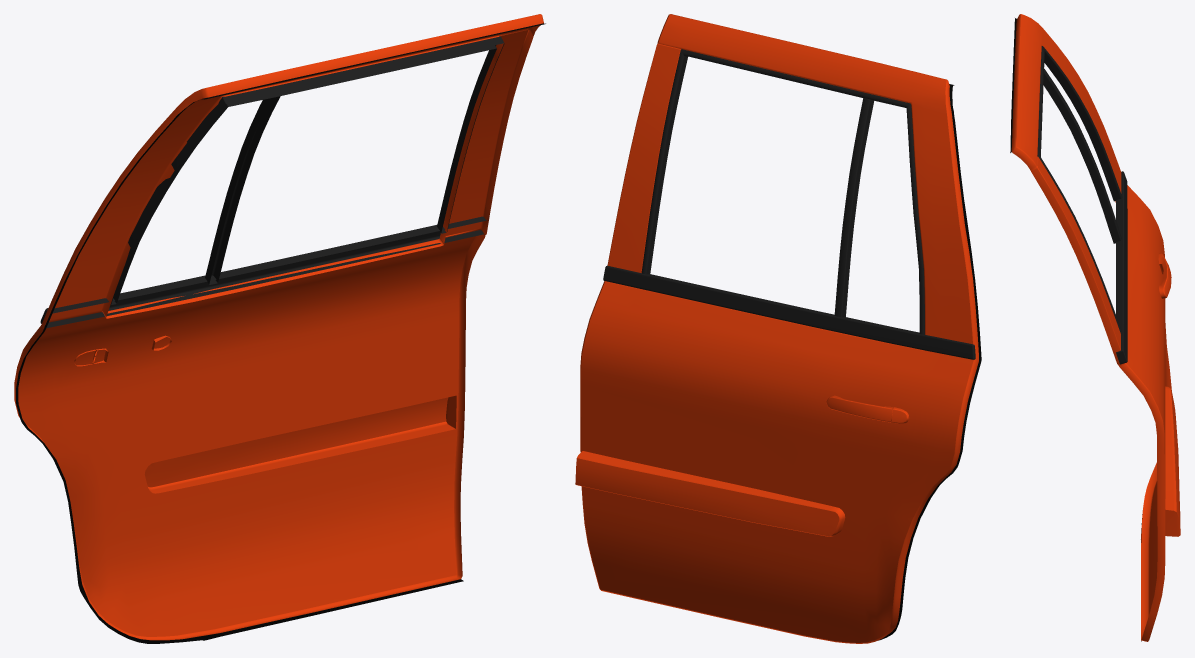
3 renders of one model, left to right at view 1: azimuth 30°, elevation 25°; view 2: azimuth 150°, elevation 25°; view 3: azimuth 270°, elevation 25°, orthographic. The views are drawn at different scales.
Visible parts, largest first — view 1: U843_9A_301B_L_U843_9A_301B_L_1_DaS, U843_9A_301B_L_U843_9A_301B_L_1_DaS_E, U843_9A_301B_L_3_D_U843_9A_301B_L, U843_9A_301B_L_U843_9A_301B_L_4_D; view 2: U843_9A_301B_L_U843_9A_301B_L_1_DaS, U843_9A_301B_L_3_D_U843_9A_301B_L, U843_9A_301B_L_U843_9A_301B_L_1_DaS_E, U843_9A_301B_L_U843_9A_301B_L_4_D; view 3: U843_9A_301B_L_U843_9A_301B_L_1_DaS, U843_9A_301B_L_U843_9A_301B_L_1_DaS_E, U843_9A_301B_L_3_D_U843_9A_301B_L, U843_9A_301B_L_U843_9A_301B_L_4_D.
Boxes of the visible parts, <box> form: U843_9A_301B_L_U843_9A_301B_L_1_DaS: <box>18,28,528,636</box>; U843_9A_301B_L_U843_9A_301B_L_1_DaS_E: <box>14,14,543,640</box>; U843_9A_301B_L_3_D_U843_9A_301B_L: <box>40,36,504,328</box>; U843_9A_301B_L_U843_9A_301B_L_4_D: <box>16,23,545,643</box>; U843_9A_301B_L_U843_9A_301B_L_1_DaS: <box>576,14,973,642</box>; U843_9A_301B_L_3_D_U843_9A_301B_L: <box>603,49,975,359</box>; U843_9A_301B_L_U843_9A_301B_L_1_DaS_E: <box>575,14,978,643</box>; U843_9A_301B_L_U843_9A_301B_L_4_D: <box>878,84,981,640</box>; U843_9A_301B_L_U843_9A_301B_L_1_DaS: <box>1016,14,1176,613</box>; U843_9A_301B_L_U843_9A_301B_L_1_DaS_E: <box>1011,14,1180,641</box>; U843_9A_301B_L_3_D_U843_9A_301B_L: <box>1037,46,1127,364</box>; U843_9A_301B_L_U843_9A_301B_L_4_D: <box>1010,18,1142,641</box>.
Bounding box in the file's own units: 89.21 × 119 × 36.67.
